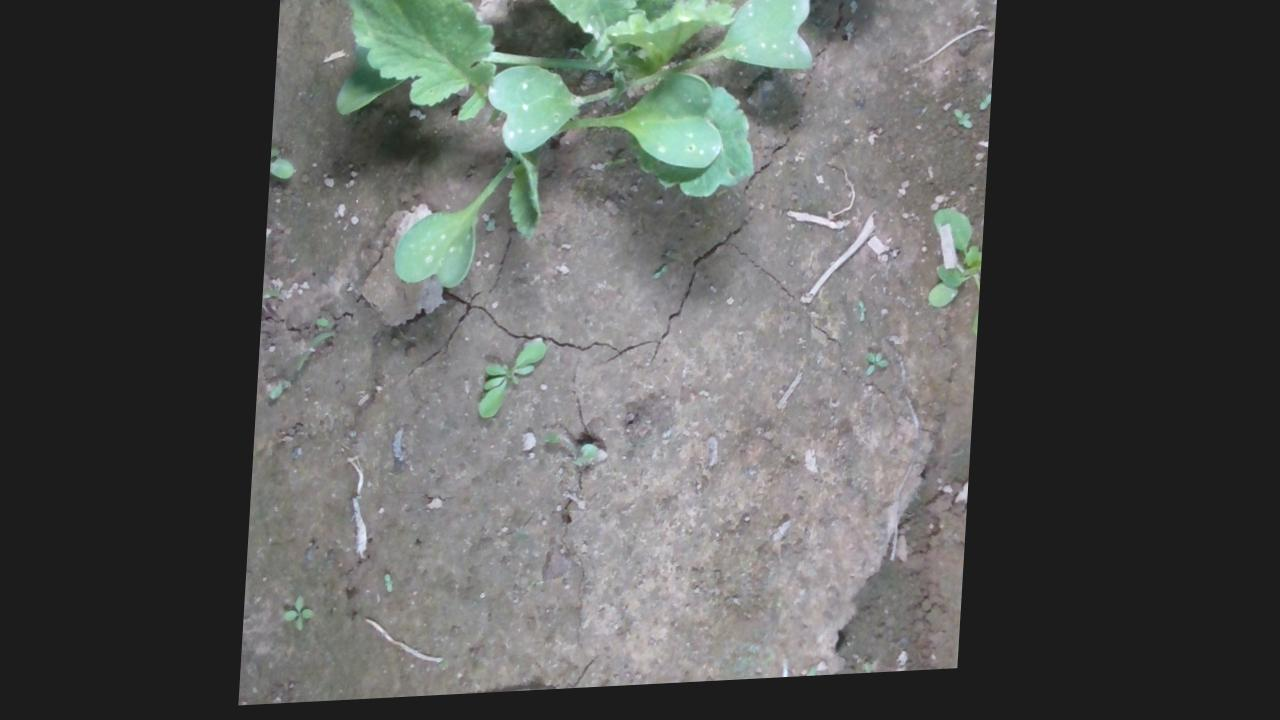weed: (482, 344, 553, 424), (291, 598, 325, 634), (870, 359, 896, 386), (955, 117, 977, 139), (655, 270, 674, 286), (808, 674, 833, 685), (390, 576, 402, 597), (873, 671, 887, 682)
